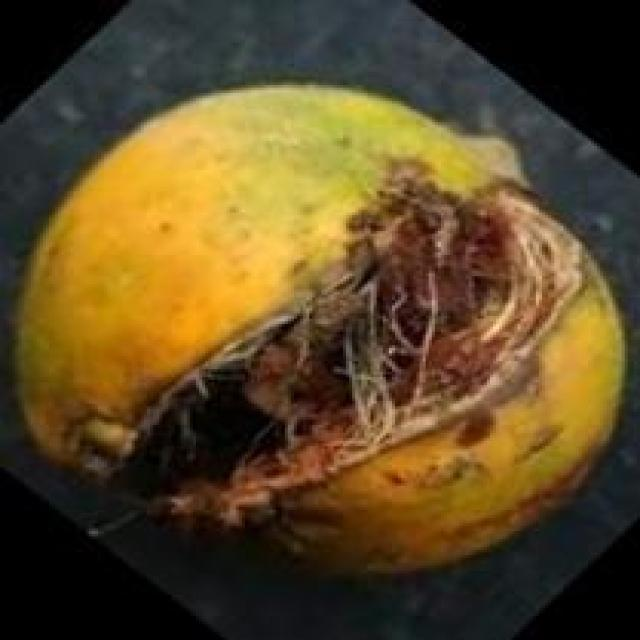damaged: (12, 80, 622, 605)
